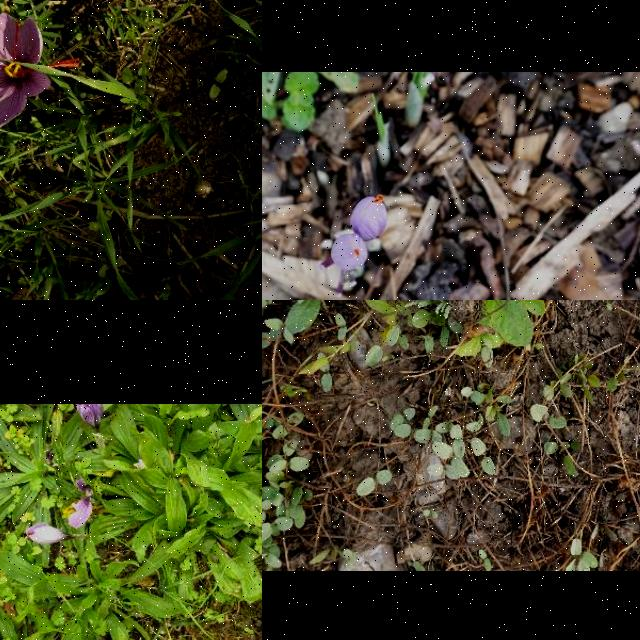flower: (0, 12, 80, 129), (350, 194, 388, 240), (331, 234, 369, 272), (24, 523, 70, 545), (76, 404, 104, 430)
